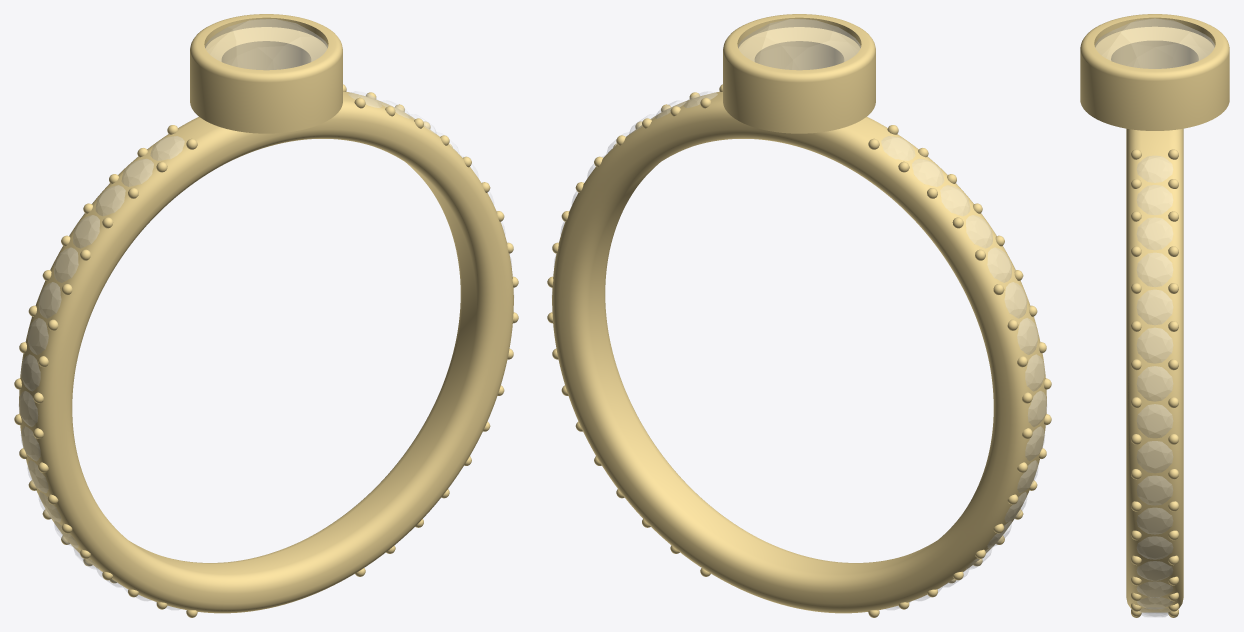
Rendered from bezel_pave_ring.glb.
3 renders of one model, left to right at view 1: azimuth 30°, elevation 25°; view 2: azimuth 150°, elevation 25°; view 3: azimuth 270°, elevation 25°, orthographic. The views are drawn at different scales.
Parts seen in each view (by area): view 1: bezel_pave_ring; view 2: bezel_pave_ring; view 3: bezel_pave_ring.
Boxes of the visible parts, x1,y1,x2,y2 form: bezel_pave_ring: (14, 14, 518, 617); bezel_pave_ring: (547, 14, 1051, 617); bezel_pave_ring: (1080, 14, 1229, 617).
Size of the model in its own units: 2.06 by 2.31 by 0.564.
